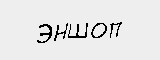Н: (52, 21, 68, 41)
О: (89, 21, 108, 39)
П: (107, 19, 123, 39)
Ш: (66, 21, 87, 40)
Э: (37, 19, 52, 46)
